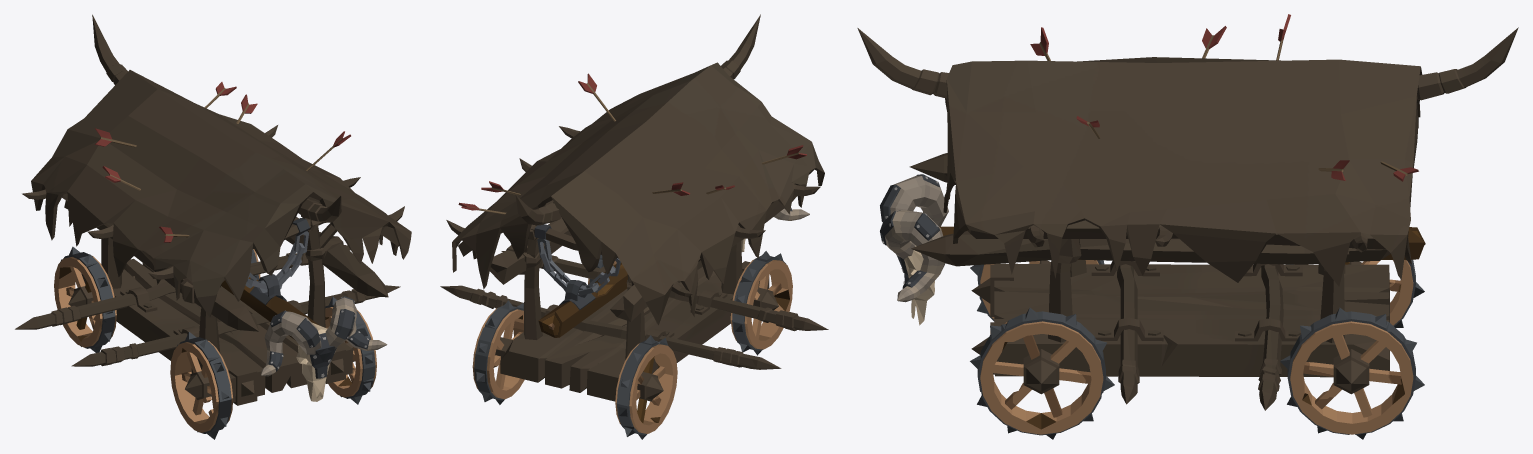
Rendered from bog_ram.gltf.
The picture shows the model from 3 angles, left to right: view 1: azimuth 30°, elevation 25°; view 2: azimuth 150°, elevation 25°; view 3: azimuth 270°, elevation 25°; orthographic projection. The views are drawn at different scales.
Parts seen in each view (by area): view 1: bog_ram; view 2: bog_ram; view 3: bog_ram.
Part boxes in pixels (box(x1,y1,x2,y2)): bog_ram: box(15, 14, 411, 439); bog_ram: box(440, 14, 828, 439); bog_ram: box(857, 14, 1518, 439).
Bounding box in the file's own units: 3.95 × 3 × 4.93.
2 materials, 2 textured.
